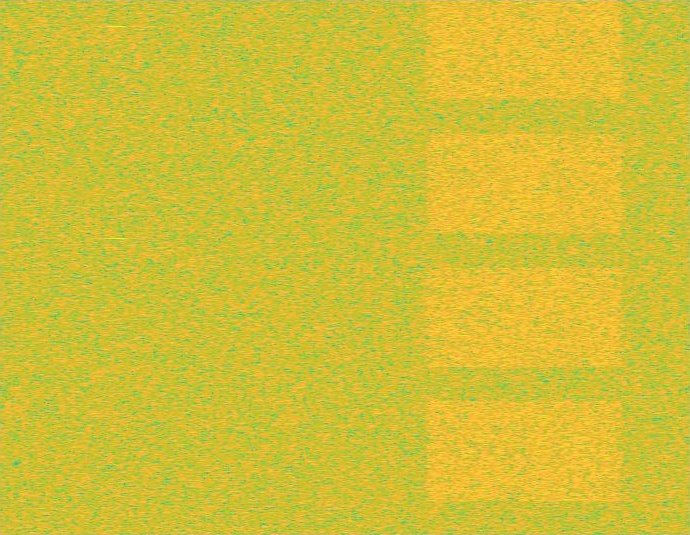5G: (421, 0, 628, 534)
Radar: (110, 0, 124, 534)
